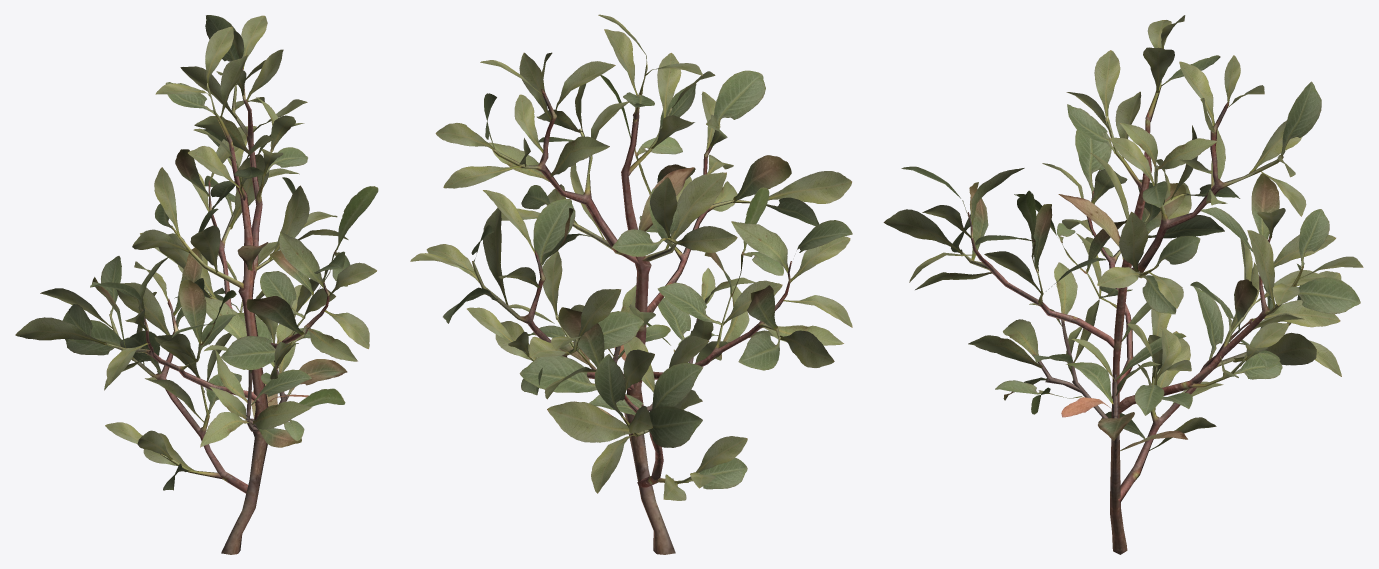
Rendered from shrub_04_b_LOD1.glb.
3 renders of one model, left to right at view 1: azimuth 30°, elevation 25°; view 2: azimuth 150°, elevation 25°; view 3: azimuth 270°, elevation 25°, orthographic. The views are drawn at different scales.
Visible parts, largest first — view 1: shrub_04_b_LOD1__lod0; view 2: shrub_04_b_LOD1__lod0; view 3: shrub_04_b_LOD1__lod0.
Boxes of the visible parts, box(x1,y1,x2,y2) form: shrub_04_b_LOD1__lod0: box(15, 15, 378, 554); shrub_04_b_LOD1__lod0: box(410, 14, 852, 554); shrub_04_b_LOD1__lod0: box(883, 15, 1363, 554).
Size of what is drawn, in the model's own units: 0.1428 by 0.2077 by 0.1664.
Materials: 1 (1 with a texture image).
